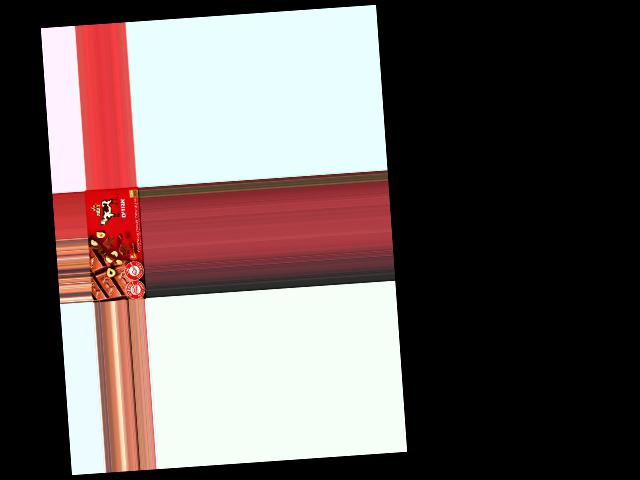chocolate: (85, 186, 145, 301)
